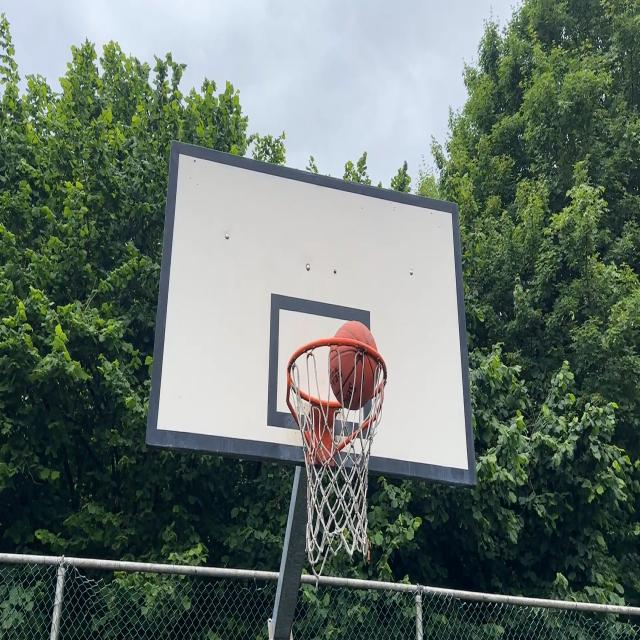rebound_hit: (329, 318, 380, 408)
